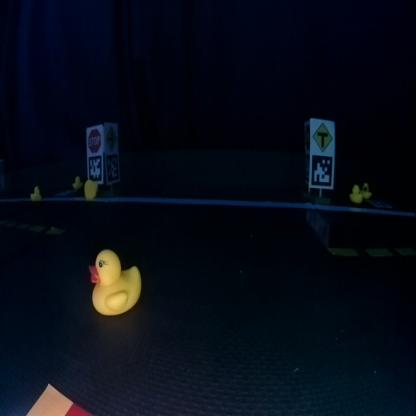Duckie: (89, 250, 139, 311), (348, 184, 362, 203), (84, 180, 97, 198), (360, 183, 371, 199), (30, 186, 41, 200), (72, 175, 82, 187)
Intersection sign: (313, 121, 332, 151), (106, 126, 116, 148)
QR code: (311, 154, 332, 186), (106, 154, 118, 181), (89, 156, 101, 180)
Stop sign: (88, 128, 100, 151)
